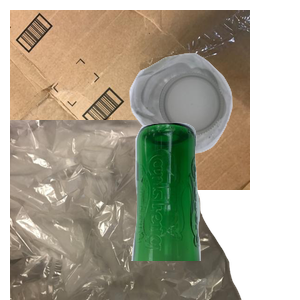cardboard: (10, 10, 250, 190)
glass: (129, 120, 300, 300)
plastic: (127, 51, 300, 197)
trash: (10, 120, 244, 300)
